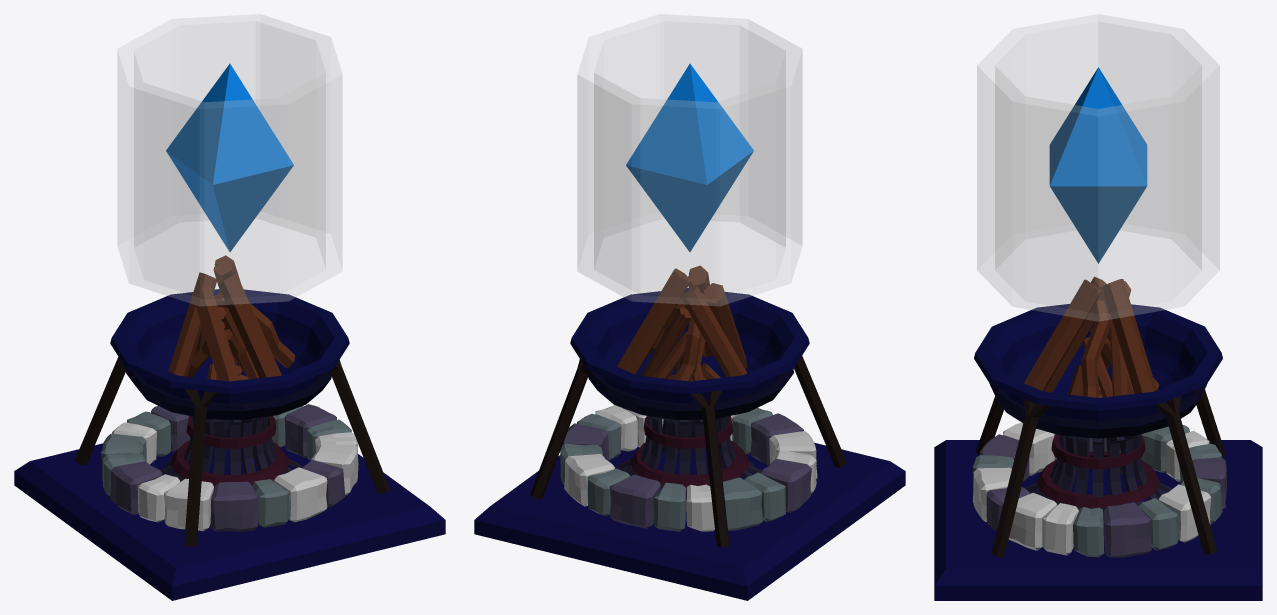
Rendered from GlowCorePhase4.fbx.
3 views of the same model, side by side, from view 1: azimuth 30°, elevation 25°; view 2: azimuth 150°, elevation 25°; view 3: azimuth 270°, elevation 25° (orthographic). The views are drawn at different scales.
Visible parts, largest first — view 1: Wall, Foundation, Stones, BigBowl, GlowCoreMaxSize, Logs, OuterLegs, InnerLegs, OuterRing, InnerRing01, InnerRing02; view 2: Wall, Foundation, Stones, BigBowl, GlowCoreMaxSize, Logs, OuterLegs, InnerLegs, OuterRing, InnerRing01, InnerRing02; view 3: Wall, Foundation, Stones, BigBowl, GlowCoreMaxSize, Logs, OuterLegs, InnerLegs, OuterRing, InnerRing01, InnerRing02.
Boxes of the visible parts, x1=… form: Wall: x1=117, y1=14, x2=342, y2=305; Foundation: x1=14, y1=443, x2=445, y2=600; Stones: x1=101, y1=404, x2=358, y2=531; BigBowl: x1=110, y1=289, x2=349, y2=403; GlowCoreMaxSize: x1=166, y1=63, x2=293, y2=251; Logs: x1=168, y1=255, x2=295, y2=381; OuterLegs: x1=74, y1=357, x2=389, y2=546; InnerLegs: x1=160, y1=416, x2=302, y2=489; OuterRing: x1=126, y1=369, x2=331, y2=420; InnerRing01: x1=171, y1=440, x2=288, y2=486; InnerRing02: x1=186, y1=416, x2=276, y2=448; Wall: x1=577, y1=14, x2=802, y2=305; Foundation: x1=474, y1=442, x2=905, y2=600; Stones: x1=560, y1=405, x2=817, y2=531; BigBowl: x1=570, y1=288, x2=809, y2=403; GlowCoreMaxSize: x1=626, y1=63, x2=753, y2=248; Logs: x1=617, y1=265, x2=747, y2=381; OuterLegs: x1=530, y1=356, x2=847, y2=547; InnerLegs: x1=617, y1=416, x2=761, y2=513; OuterRing: x1=588, y1=369, x2=793, y2=420; InnerRing01: x1=631, y1=440, x2=748, y2=487; InnerRing02: x1=643, y1=416, x2=733, y2=448; Wall: x1=977, y1=14, x2=1219, y2=321; Foundation: x1=934, y1=440, x2=1262, y2=600; Stones: x1=972, y1=422, x2=1226, y2=557; BigBowl: x1=974, y1=302, x2=1222, y2=421; GlowCoreMaxSize: x1=1049, y1=67, x2=1147, y2=263; Logs: x1=1024, y1=276, x2=1159, y2=397; OuterLegs: x1=976, y1=389, x2=1225, y2=557; InnerLegs: x1=1024, y1=433, x2=1171, y2=511; OuterRing: x1=989, y1=383, x2=1207, y2=438; InnerRing01: x1=1036, y1=451, x2=1160, y2=508; InnerRing02: x1=1051, y1=434, x2=1145, y2=469.
Bounding box in the file's own units: 440 × 689 × 440.
